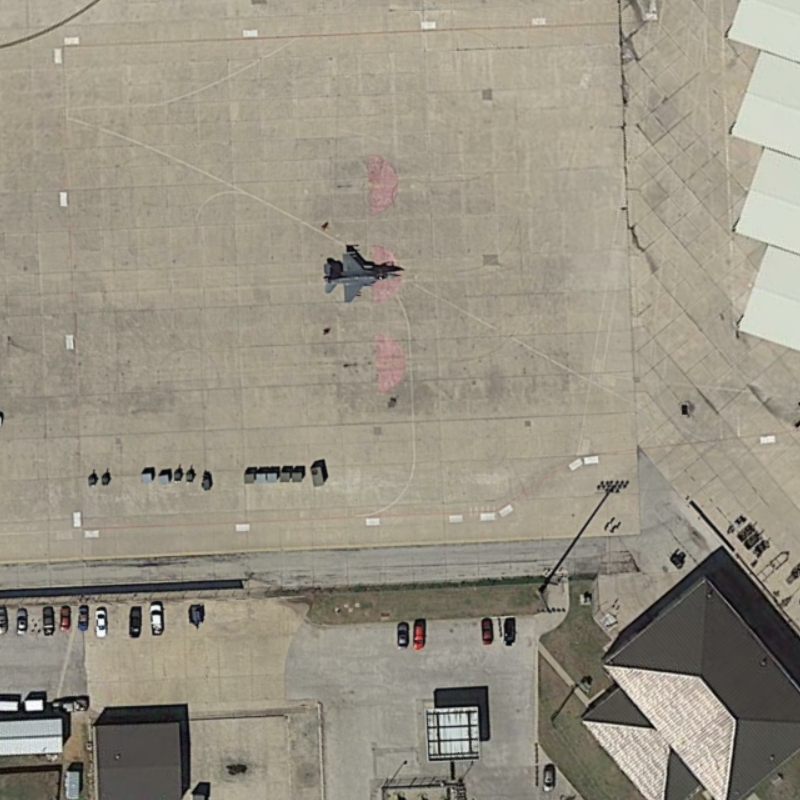A5: (314, 236, 413, 309)
